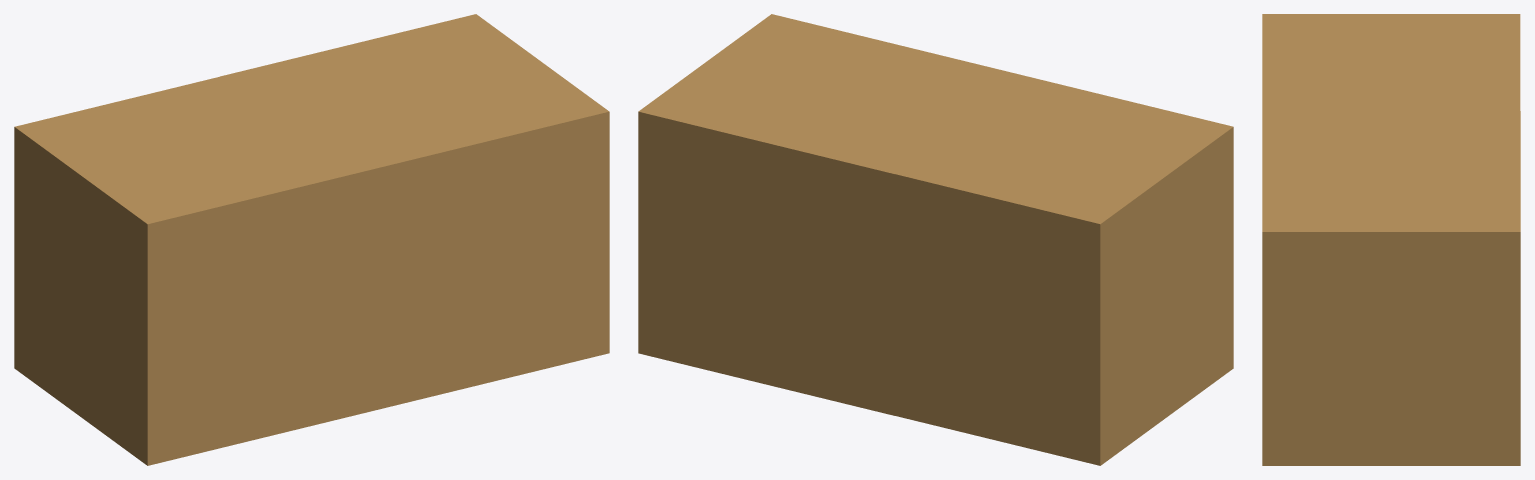
The picture shows the model from 3 angles, left to right: view 1: azimuth 30°, elevation 25°; view 2: azimuth 150°, elevation 25°; view 3: azimuth 270°, elevation 25°; orthographic projection. The views are drawn at different scales.
Visible parts, largest first — view 1: RUN-087-S01-STUD-01-p2; view 2: RUN-087-S01-STUD-01-p2; view 3: RUN-087-S01-STUD-01-p2.
Part boxes in pixels (left/top/right/bottom): RUN-087-S01-STUD-01-p2: left=14, top=14, right=609, bottom=465; RUN-087-S01-STUD-01-p2: left=638, top=14, right=1233, bottom=465; RUN-087-S01-STUD-01-p2: left=1262, top=14, right=1520, bottom=465.
Bounding box in the file's own units: 0.09 × 0.045 × 0.045.
